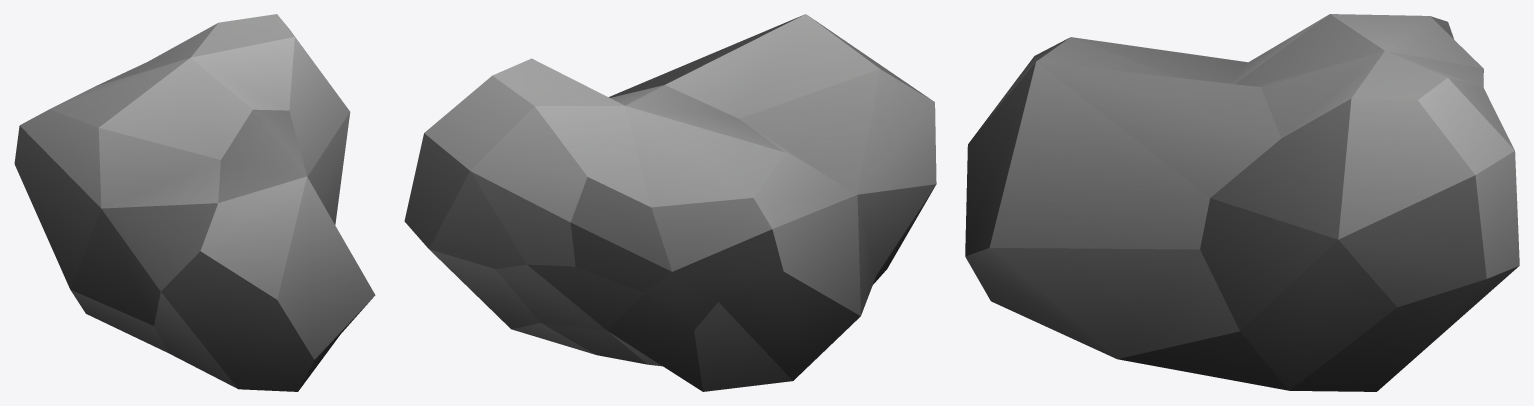
Rendered from rock_export_2.fbx.
The picture shows the model from 3 angles, left to right: view 1: azimuth 30°, elevation 25°; view 2: azimuth 150°, elevation 25°; view 3: azimuth 270°, elevation 25°; orthographic projection. The views are drawn at different scales.
Visible parts, largest first — view 1: pPlatonic15; view 2: pPlatonic15; view 3: pPlatonic15.
Part boxes in pixels (left/top/right/bottom): pPlatonic15: left=14, top=14, right=375, bottom=391; pPlatonic15: left=404, top=14, right=936, bottom=391; pPlatonic15: left=965, top=14, right=1519, bottom=391.
Bounding box in the file's own units: 1.82 × 1.28 × 2.2.
